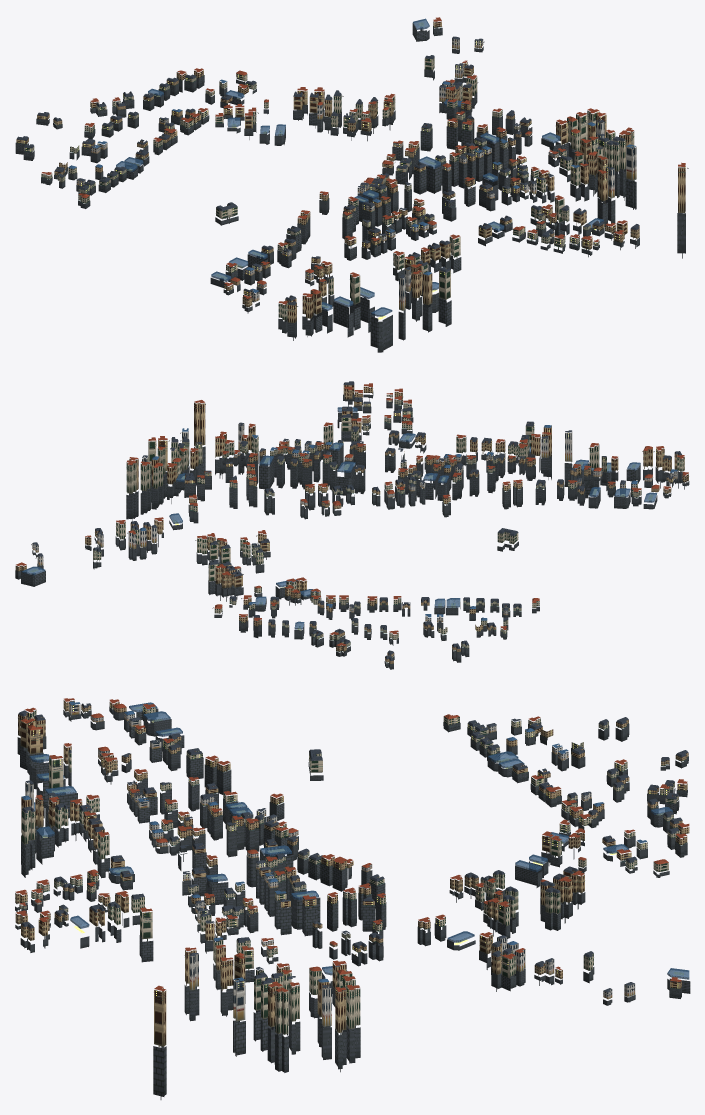
The model's file is osm_buildings_T_E01_N00_Q2.glb.
3 renders of one model, top to bottom at view 1: azimuth 30°, elevation 25°; view 2: azimuth 150°, elevation 25°; view 3: azimuth 270°, elevation 25°, orthographic. The views are drawn at different scales.
Parts seen in each view (by area): view 1: OSM_PBR_T_E01_N00_Q2_foundation, OSM_PBR_T_E01_N00_Q2_wall_french_ochre, OSM_PBR_T_E01_N00_Q2_wall_cream_stucco, OSM_PBR_T_E01_N00_Q2_roof_terracotta, OSM_PBR_T_E01_N00_Q2_roof_mansard_slate, OSM_PBR_T_E01_N00_Q2_greenhouse_blend, OSM_PBR_T_E01_N00_Q2_wall_warm_white, OSM_PBR_T_E01_N00_Q2_roof_mansard_deck, OSM_PBR_T_E01_N00_Q2_wall_pastel_sand, OSM_PBR_T_E01_N00_Q2_balcony_railing, OSM_PBR_T_E01_N00_Q2_roof_mint_metal, OSM_PBR_T_E01_N00_Q2_window_emissive_warm (+1 smaller); view 2: OSM_PBR_T_E01_N00_Q2_foundation, OSM_PBR_T_E01_N00_Q2_wall_french_ochre, OSM_PBR_T_E01_N00_Q2_wall_cream_stucco, OSM_PBR_T_E01_N00_Q2_roof_terracotta, OSM_PBR_T_E01_N00_Q2_roof_mansard_slate, OSM_PBR_T_E01_N00_Q2_greenhouse_blend, OSM_PBR_T_E01_N00_Q2_roof_mansard_deck, OSM_PBR_T_E01_N00_Q2_wall_warm_white, OSM_PBR_T_E01_N00_Q2_wall_pastel_sand, OSM_PBR_T_E01_N00_Q2_trim_cornice, OSM_PBR_T_E01_N00_Q2_roof_mint_metal, OSM_PBR_T_E01_N00_Q2_roof_alpine_blue; view 3: OSM_PBR_T_E01_N00_Q2_foundation, OSM_PBR_T_E01_N00_Q2_wall_french_ochre, OSM_PBR_T_E01_N00_Q2_wall_cream_stucco, OSM_PBR_T_E01_N00_Q2_roof_terracotta, OSM_PBR_T_E01_N00_Q2_roof_mansard_slate, OSM_PBR_T_E01_N00_Q2_greenhouse_blend, OSM_PBR_T_E01_N00_Q2_wall_warm_white, OSM_PBR_T_E01_N00_Q2_roof_mansard_deck, OSM_PBR_T_E01_N00_Q2_wall_pastel_sand, OSM_PBR_T_E01_N00_Q2_roof_mint_metal, OSM_PBR_T_E01_N00_Q2_trim_cornice, OSM_PBR_T_E01_N00_Q2_balcony_railing (+2 smaller).
Boxes of the visible parts, box(x1,y1,x2,y2) form: OSM_PBR_T_E01_N00_Q2_foundation: box(15, 23, 685, 352); OSM_PBR_T_E01_N00_Q2_wall_french_ochre: box(16, 19, 685, 323); OSM_PBR_T_E01_N00_Q2_wall_cream_stucco: box(24, 57, 634, 320); OSM_PBR_T_E01_N00_Q2_roof_terracotta: box(41, 17, 685, 304); OSM_PBR_T_E01_N00_Q2_roof_mansard_slate: box(17, 36, 639, 305); OSM_PBR_T_E01_N00_Q2_greenhouse_blend: box(116, 18, 603, 316); OSM_PBR_T_E01_N00_Q2_wall_warm_white: box(76, 38, 636, 292); OSM_PBR_T_E01_N00_Q2_roof_mansard_deck: box(17, 27, 637, 316); OSM_PBR_T_E01_N00_Q2_wall_pastel_sand: box(91, 64, 614, 310); OSM_PBR_T_E01_N00_Q2_balcony_railing: box(18, 62, 619, 309); OSM_PBR_T_E01_N00_Q2_roof_mint_metal: box(16, 27, 684, 311); OSM_PBR_T_E01_N00_Q2_window_emissive_warm: box(18, 23, 685, 319); OSM_PBR_T_E01_N00_Q2_foundation: box(15, 391, 689, 669); OSM_PBR_T_E01_N00_Q2_wall_french_ochre: box(15, 385, 688, 663); OSM_PBR_T_E01_N00_Q2_wall_cream_stucco: box(93, 395, 684, 648); OSM_PBR_T_E01_N00_Q2_roof_terracotta: box(16, 383, 688, 646); OSM_PBR_T_E01_N00_Q2_roof_mansard_slate: box(32, 381, 681, 660); OSM_PBR_T_E01_N00_Q2_greenhouse_blend: box(22, 407, 656, 629); OSM_PBR_T_E01_N00_Q2_roof_mansard_deck: box(22, 381, 680, 658); OSM_PBR_T_E01_N00_Q2_wall_warm_white: box(32, 400, 652, 621); OSM_PBR_T_E01_N00_Q2_wall_pastel_sand: box(97, 424, 677, 622); OSM_PBR_T_E01_N00_Q2_trim_cornice: box(17, 388, 685, 662); OSM_PBR_T_E01_N00_Q2_roof_mint_metal: box(17, 391, 688, 664); OSM_PBR_T_E01_N00_Q2_roof_alpine_blue: box(140, 425, 677, 620); OSM_PBR_T_E01_N00_Q2_foundation: box(15, 706, 690, 1099); OSM_PBR_T_E01_N00_Q2_wall_french_ochre: box(15, 700, 689, 1047); OSM_PBR_T_E01_N00_Q2_wall_cream_stucco: box(19, 705, 679, 1034); OSM_PBR_T_E01_N00_Q2_roof_terracotta: box(15, 698, 689, 991); OSM_PBR_T_E01_N00_Q2_roof_mansard_slate: box(18, 703, 688, 992); OSM_PBR_T_E01_N00_Q2_greenhouse_blend: box(29, 702, 689, 979); OSM_PBR_T_E01_N00_Q2_wall_warm_white: box(34, 713, 635, 1026); OSM_PBR_T_E01_N00_Q2_roof_mansard_deck: box(20, 709, 688, 981); OSM_PBR_T_E01_N00_Q2_wall_pastel_sand: box(25, 703, 591, 990); OSM_PBR_T_E01_N00_Q2_roof_mint_metal: box(15, 704, 687, 1000); OSM_PBR_T_E01_N00_Q2_trim_cornice: box(16, 700, 685, 996); OSM_PBR_T_E01_N00_Q2_balcony_railing: box(21, 705, 684, 998).
Bounding box in the file's own units: 989 × 233 × 997.
18 materials, 16 textured.
